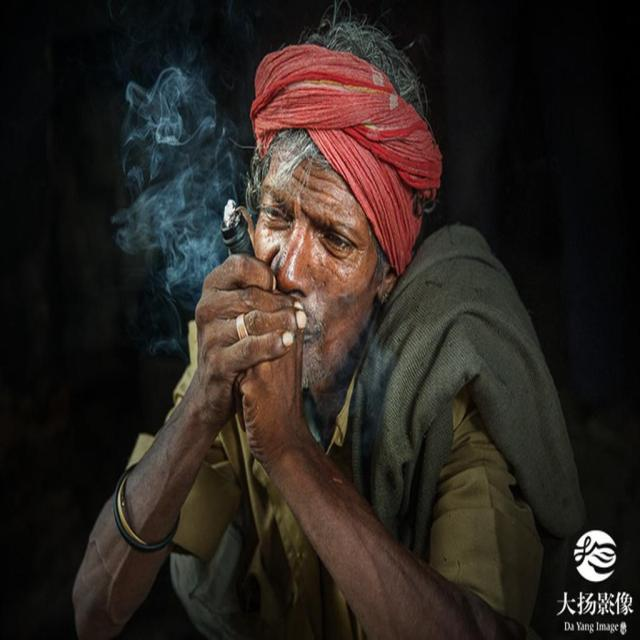smoking: (142, 15, 444, 480)
